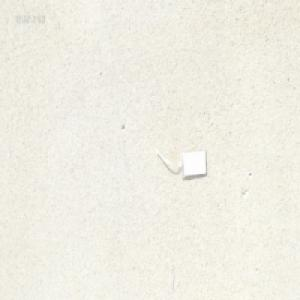LuggageTag: (155, 148, 207, 178)
